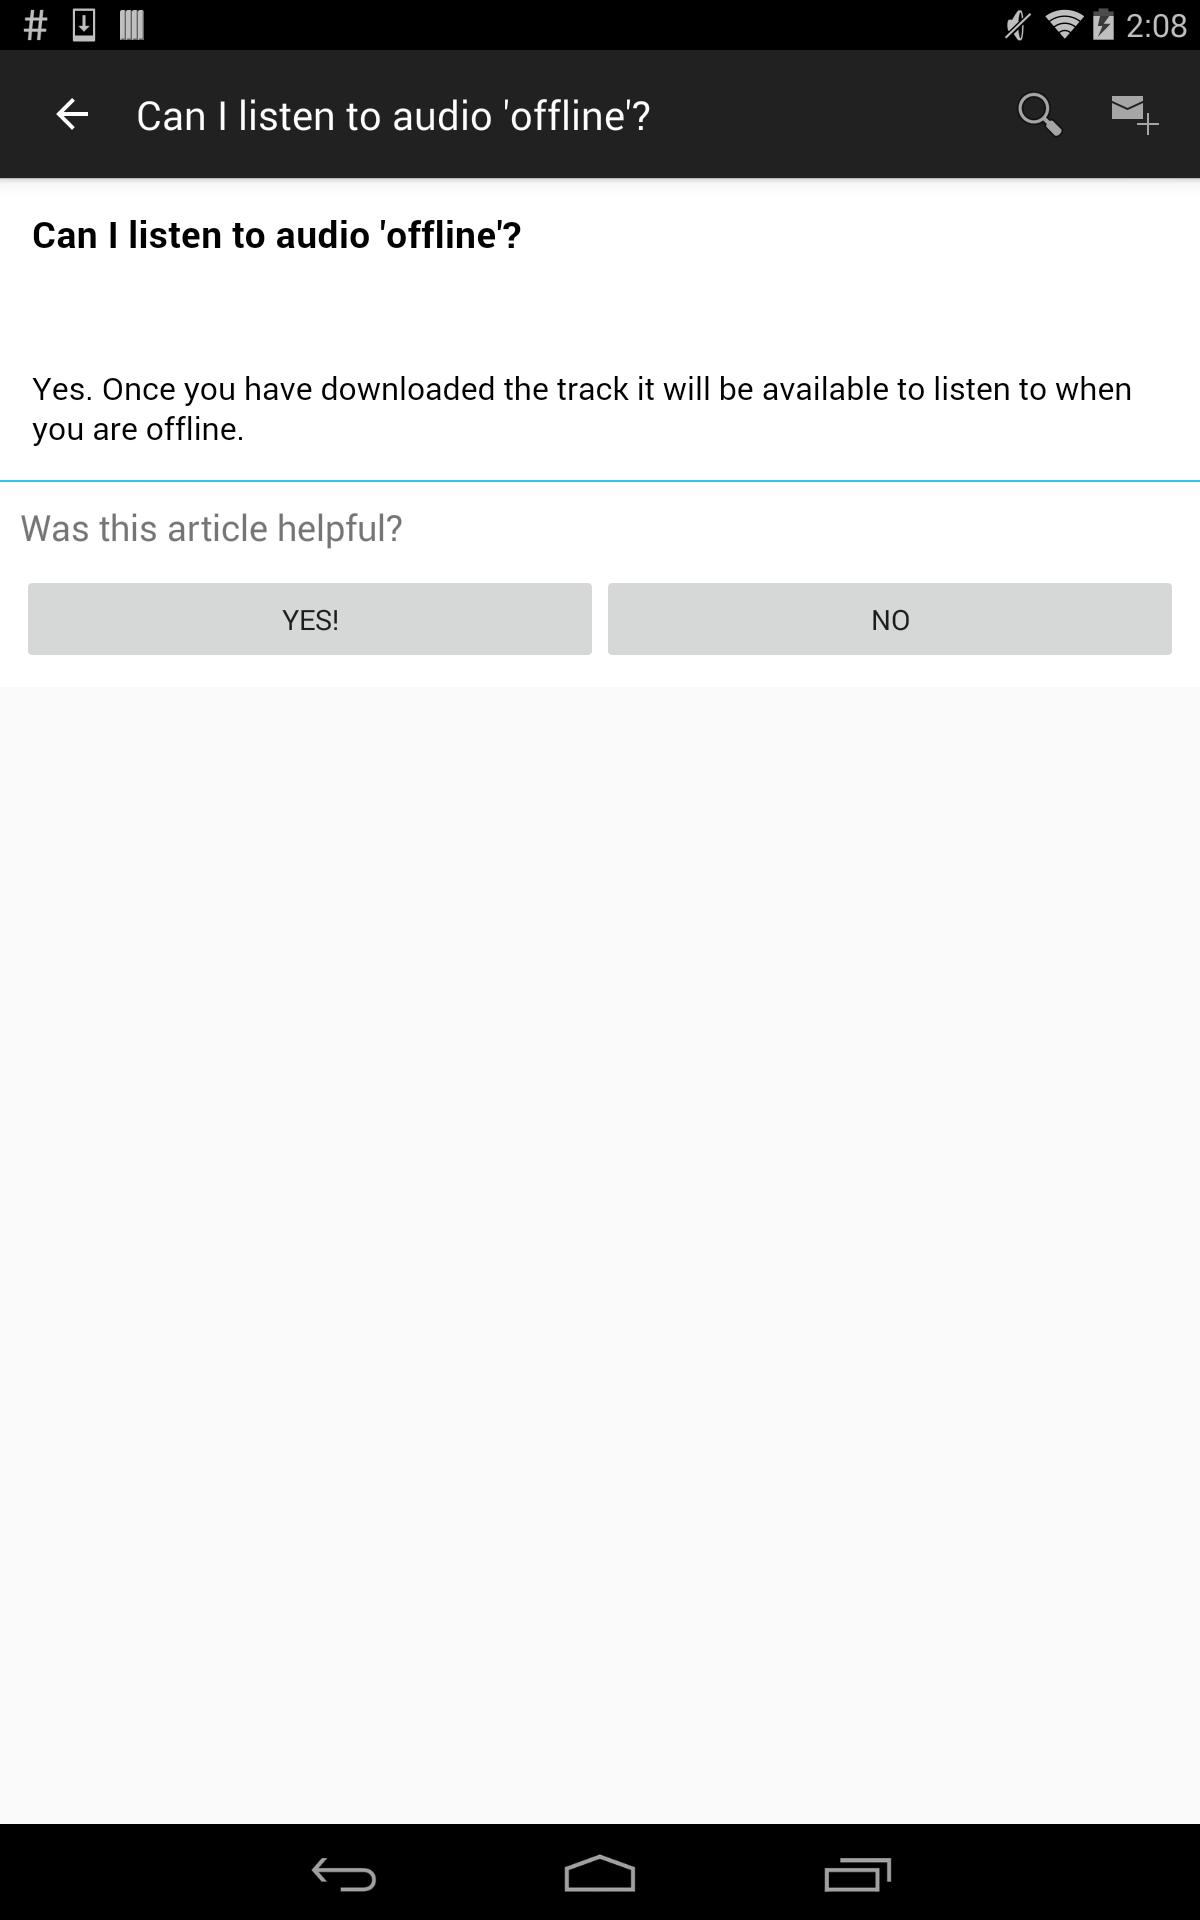android.support.v7.widget.LinearLayoutCompat: (993, 50, 1183, 178)
android.view.View: (0, 50, 1200, 1825), (0, 178, 1200, 480), (0, 50, 1200, 178), (32, 368, 1168, 451), (32, 210, 1168, 258), (32, 296, 1168, 339), (0, 480, 1200, 482)
android.widget.Button: (19, 571, 600, 668), (600, 571, 1181, 668)
android.widget.FrameLayout: (0, 0, 1200, 1825), (0, 50, 1200, 1825), (0, 178, 1200, 1825), (0, 50, 1200, 178)
android.widget.ImageButton: (17, 50, 129, 178)
android.widget.LinearLayout: (0, 0, 1200, 1825), (0, 178, 1200, 687), (0, 480, 1200, 687), (0, 482, 1200, 687)
android.widget.ScrollView: (0, 178, 1200, 1825)
android.widget.TableLayout: (19, 552, 1181, 668)
android.widget.TableRow: (19, 571, 1181, 668)
android.widget.TextView: (19, 502, 1181, 552), (135, 87, 651, 141), (993, 66, 1088, 162), (1088, 66, 1183, 162)
android.widget.ViewFlipper: (0, 178, 1200, 1825)
